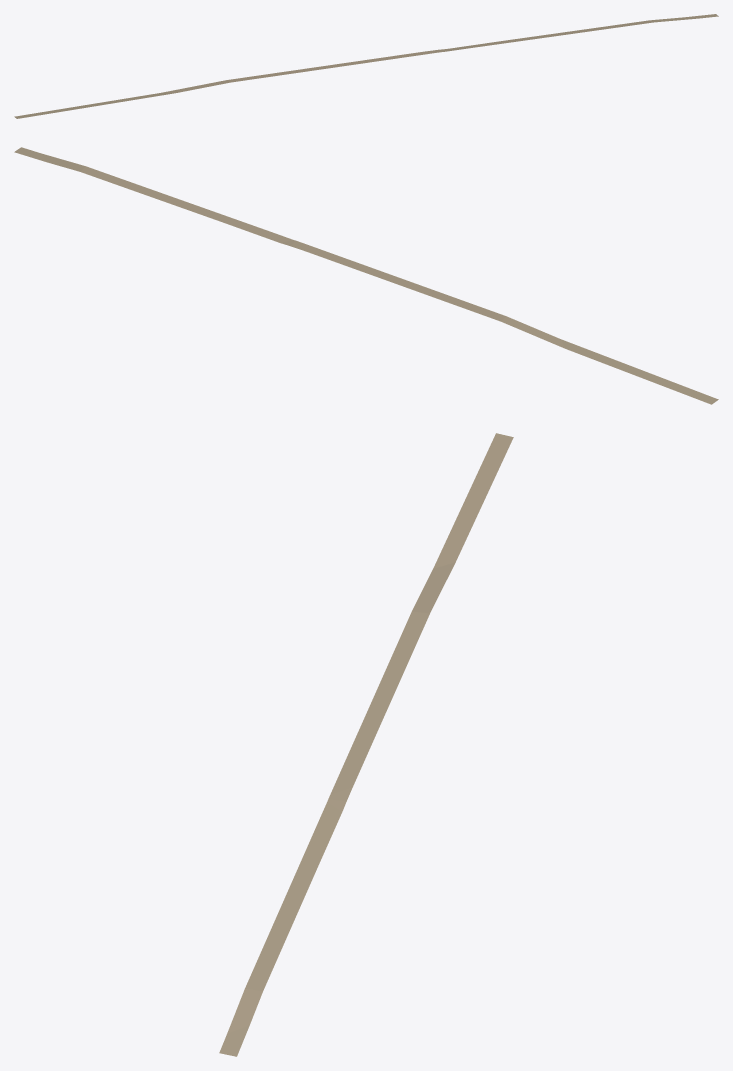
File: farm_-47_-50_track.glb
3 views of the same model, one above another, from view 1: azimuth 30°, elevation 25°; view 2: azimuth 150°, elevation 25°; view 3: azimuth 270°, elevation 25° (orthographic). The views are drawn at different scales.
Parts seen in each view (by area): view 1: geometry_0; view 2: geometry_0; view 3: geometry_0.
Part boxes in pixels (x1,y1,x2,y2): geometry_0: (14, 14, 718, 118); geometry_0: (14, 147, 718, 404); geometry_0: (219, 433, 513, 1056).
Size of the model in its own units: 266 by 2.87 by 53.5.
